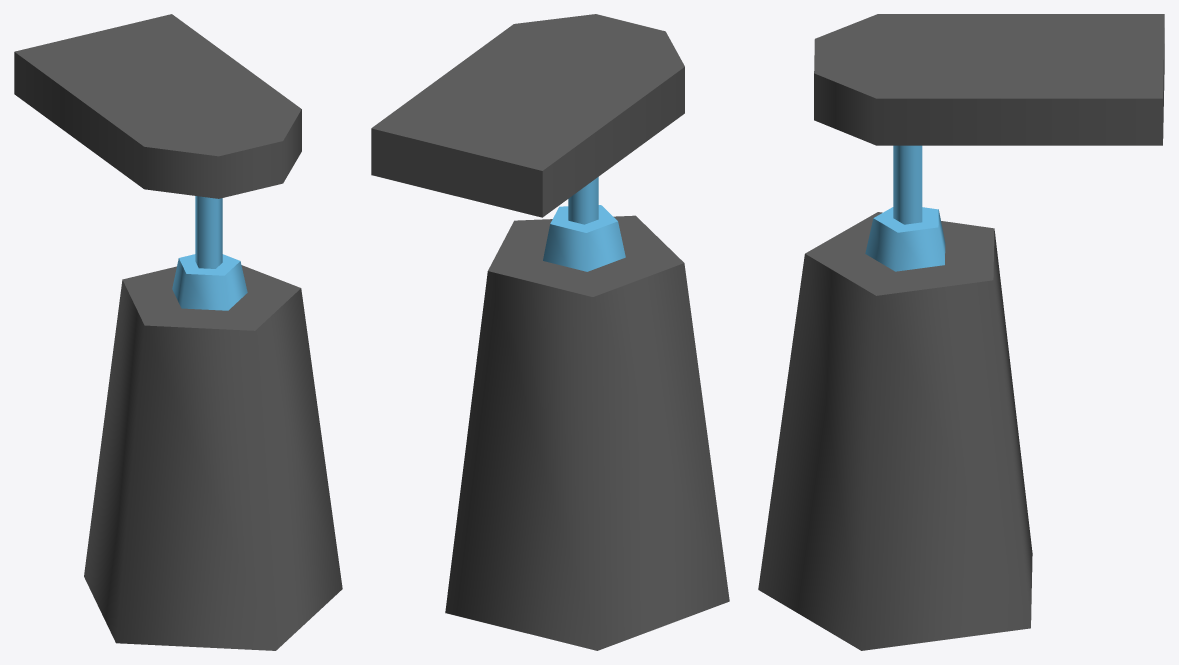
File: lamp_029.glb
3 renders of one model, left to right at view 1: azimuth 30°, elevation 25°; view 2: azimuth 150°, elevation 25°; view 3: azimuth 270°, elevation 25°, orthographic. The views are drawn at different scales.
Visible parts, largest first — view 1: lamp_029; view 2: lamp_029; view 3: lamp_029.
Part boxes in pixels (x1,y1,x2,y2): lamp_029: [14, 14, 342, 650]; lamp_029: [371, 14, 729, 650]; lamp_029: [758, 14, 1164, 650].
Bounding box in the file's own units: 0.1342 × 0.2749 × 0.1897.
1 material, 1 textured.
